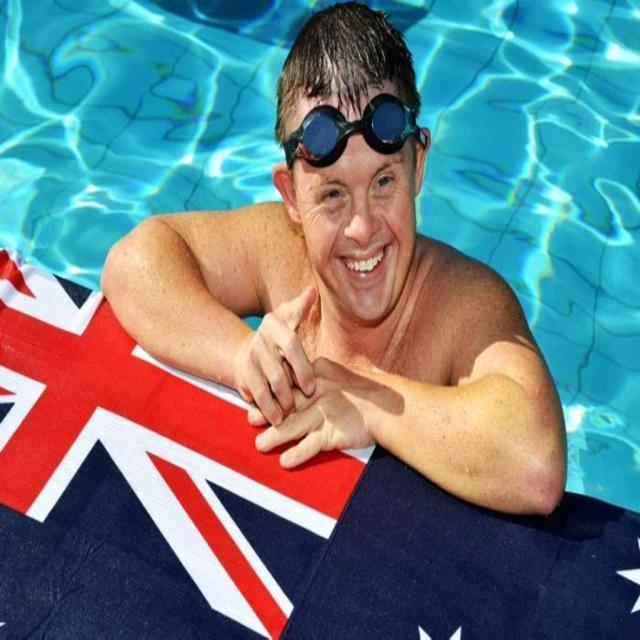Face: (280, 88, 426, 322)
